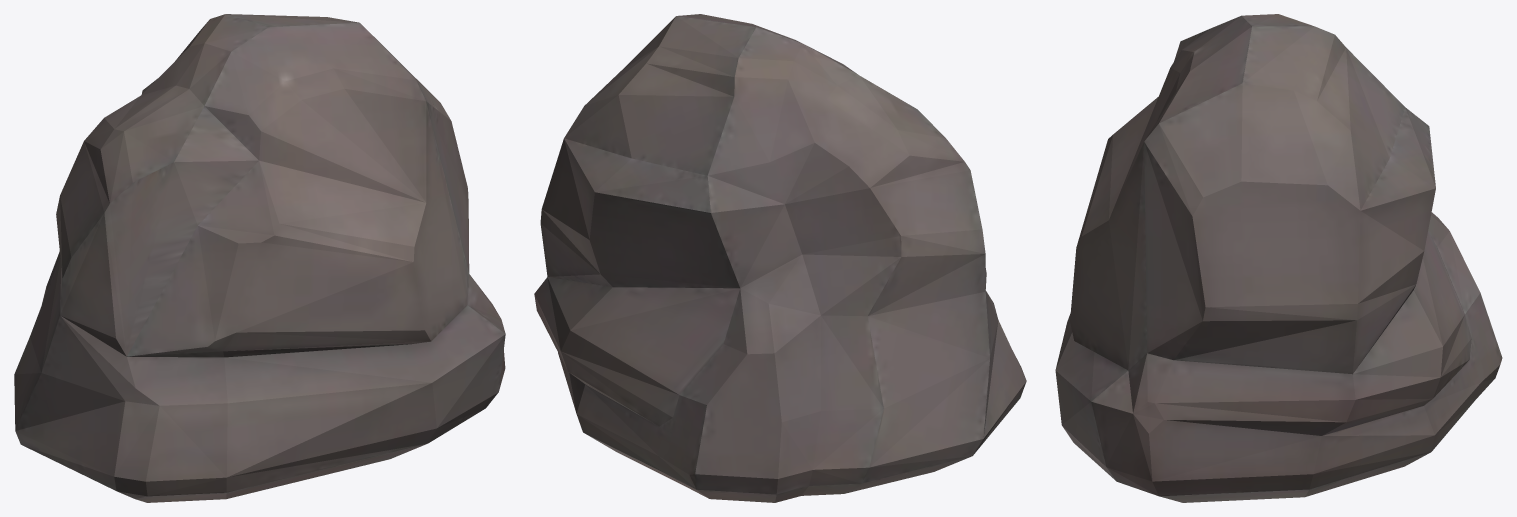
3 views of the same model, side by side, from view 1: azimuth 30°, elevation 25°; view 2: azimuth 150°, elevation 25°; view 3: azimuth 270°, elevation 25° (orthographic). The views are drawn at different scales.
Visible parts, largest first — view 1: body0_model0_lod0_mesh0; view 2: body0_model0_lod0_mesh0; view 3: body0_model0_lod0_mesh0.
Part boxes in pixels (<box>): body0_model0_lod0_mesh0: <box>14,14,505,502</box>; body0_model0_lod0_mesh0: <box>534,14,1026,502</box>; body0_model0_lod0_mesh0: <box>1055,14,1502,502</box>.
Size of the model in its own units: 166 by 146 by 146.
1 material, 1 textured.
